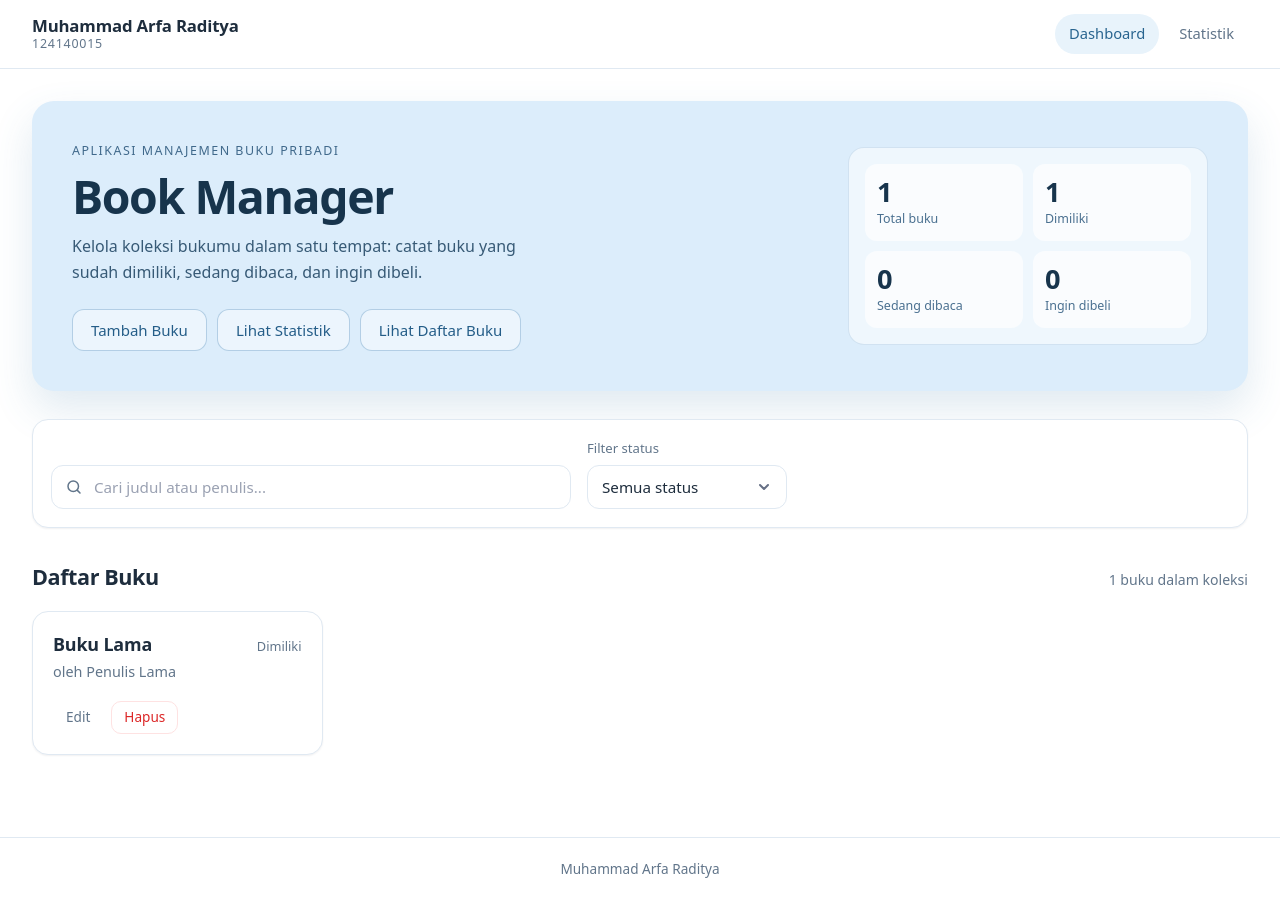
Test: Dashboard dan manajemen buku › mengedit informasi buku yang sudah ada
This screenshot has width=1280, height=900.
Click the button with aria-label "Edit buku Buku Lama" at [78, 717], box [53, 701, 103, 734]
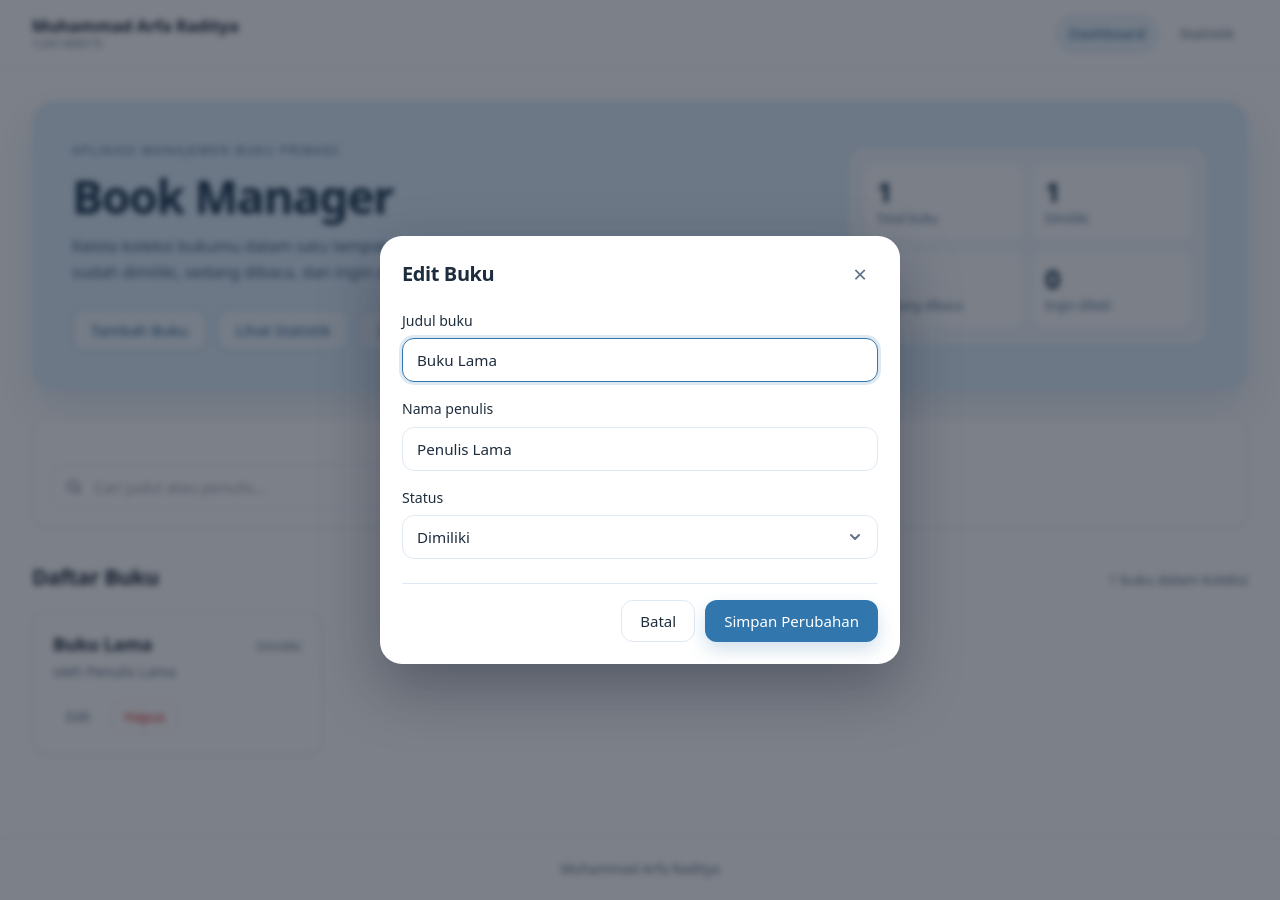
Check: the field labelled "Judul buku" holds "Buku Lama"
Replace the text in the field labelled "Judul buku" with "Buku Baru" at [640, 360], box [402, 338, 878, 382]
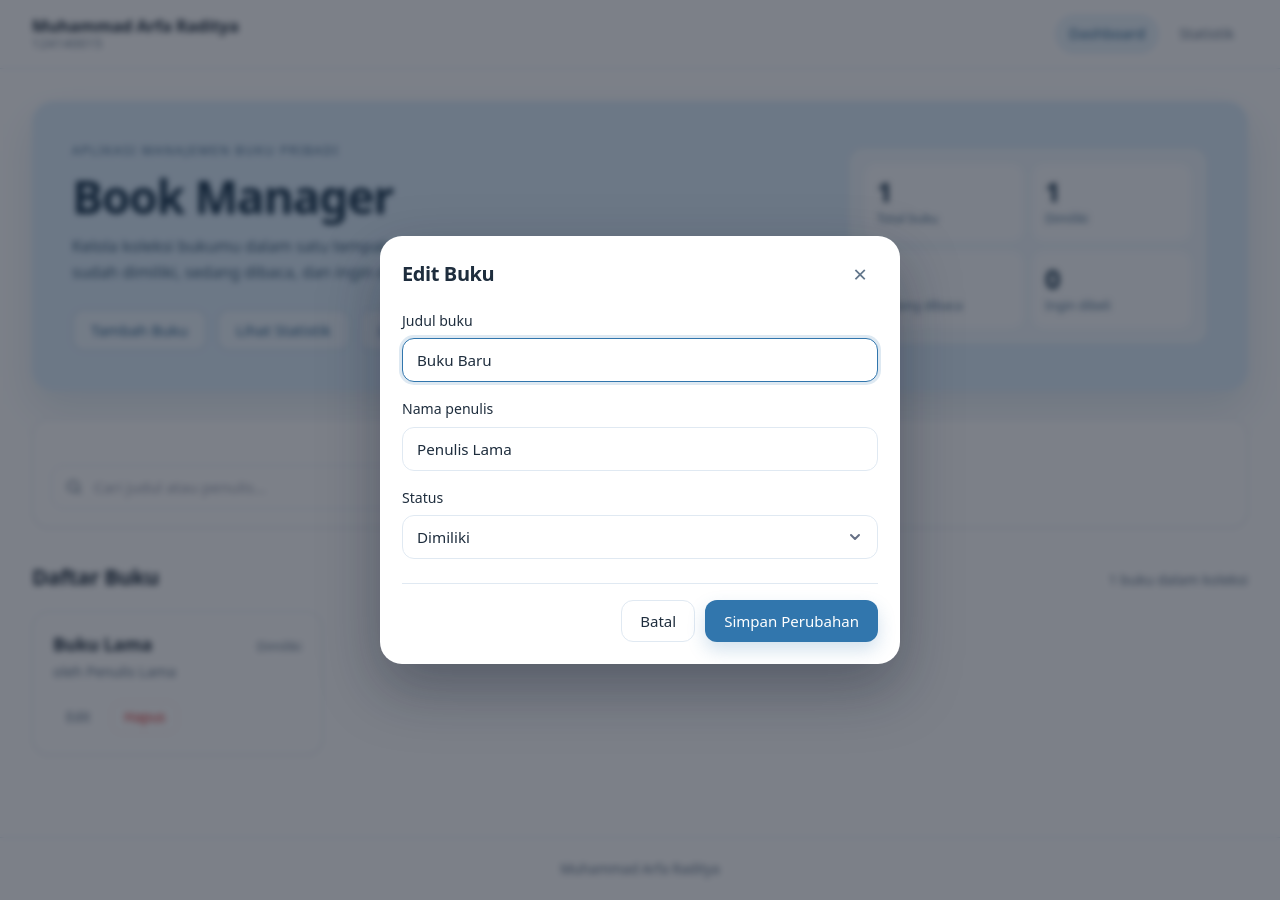
Click the button "Simpan Perubahan" at [792, 621], box [705, 600, 878, 642]
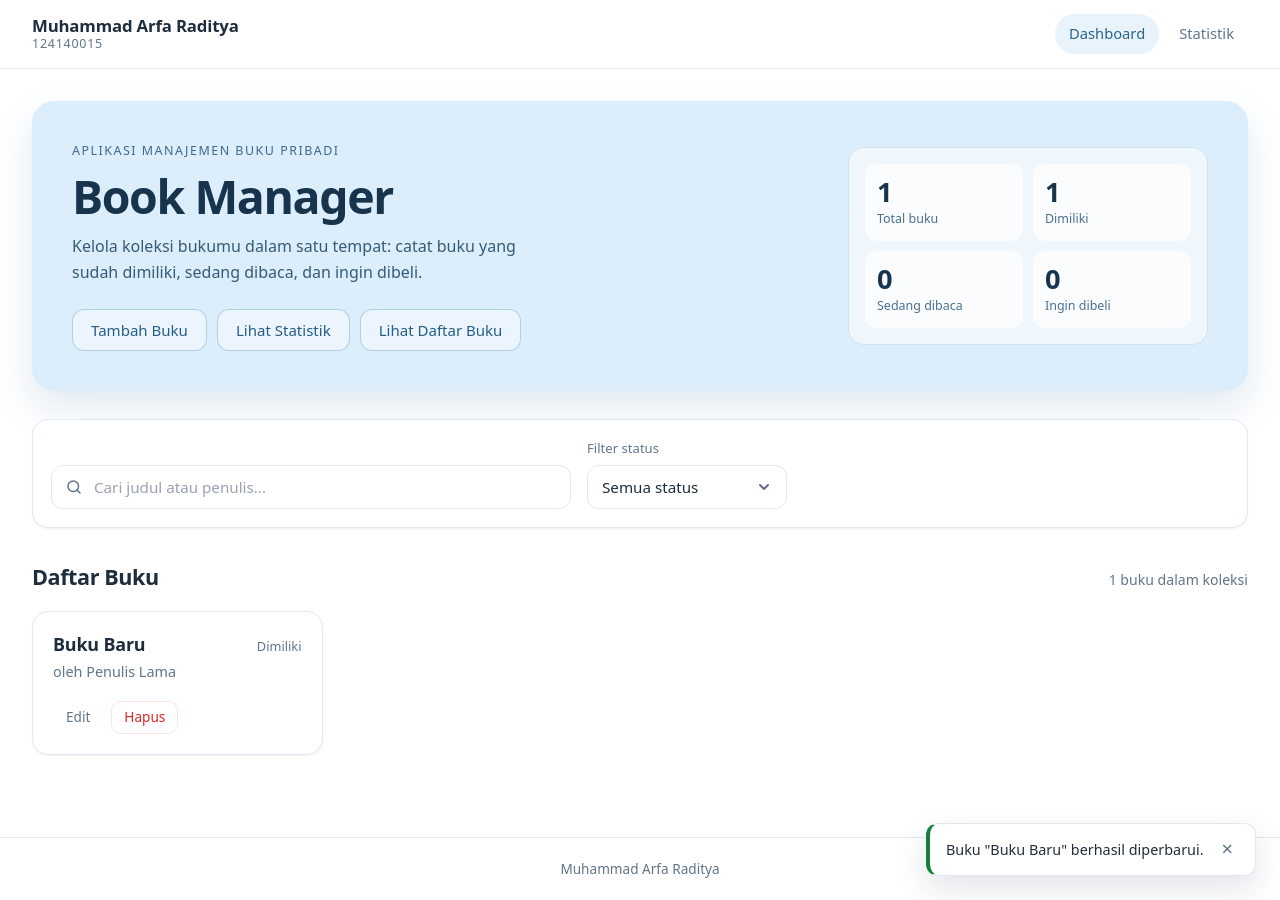
Check: the heading "Buku Baru" is shown, box [53, 632, 146, 656]
Check: the heading "Buku Lama" is gone
